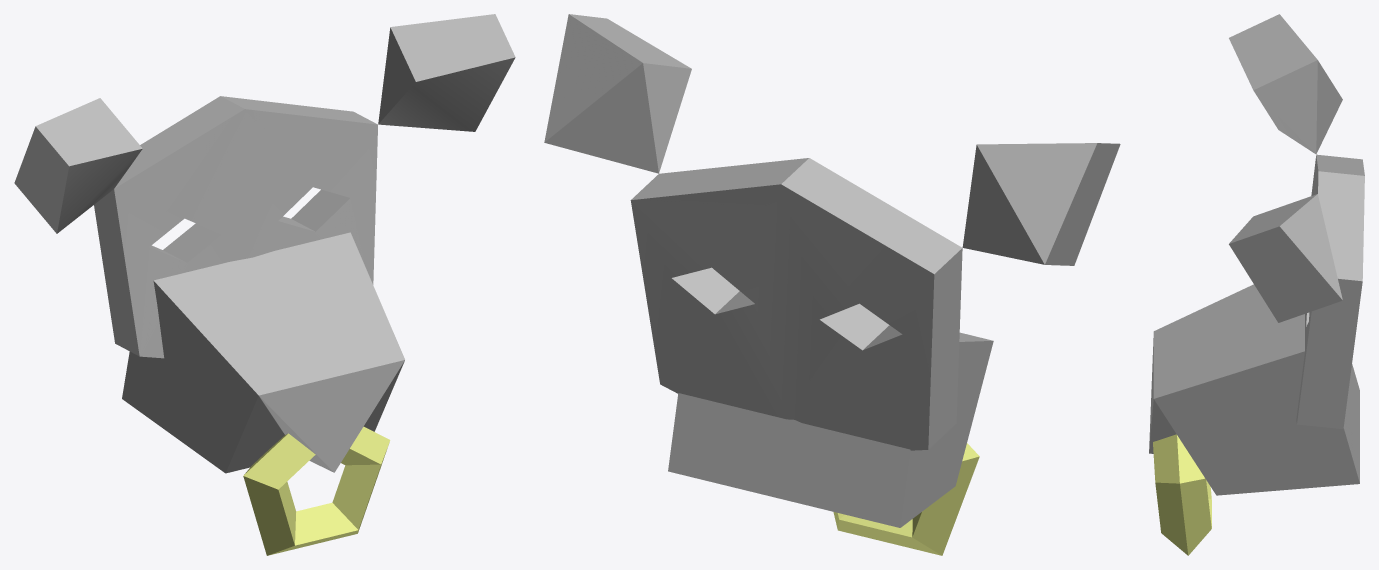
File: mask_bull.glb
The picture shows the model from 3 angles, left to right: view 1: azimuth 30°, elevation 25°; view 2: azimuth 150°, elevation 25°; view 3: azimuth 270°, elevation 25°; orthographic projection. The views are drawn at different scales.
Visible parts, largest first — view 1: mask_bull; view 2: mask_bull; view 3: mask_bull.
Part boxes in pixels (box(x1,y1,x2,y2)): mask_bull: box(14, 14, 515, 555); mask_bull: box(544, 14, 1120, 555); mask_bull: box(1149, 14, 1364, 555).
Size of the model in its own units: 0.5654 by 0.5159 by 0.2431.
